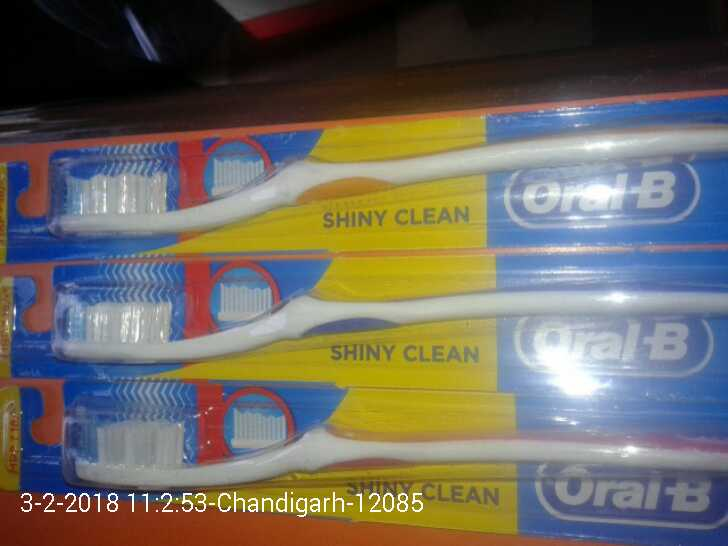oralb: (55, 111, 721, 239), (48, 264, 728, 381), (51, 401, 728, 502)
